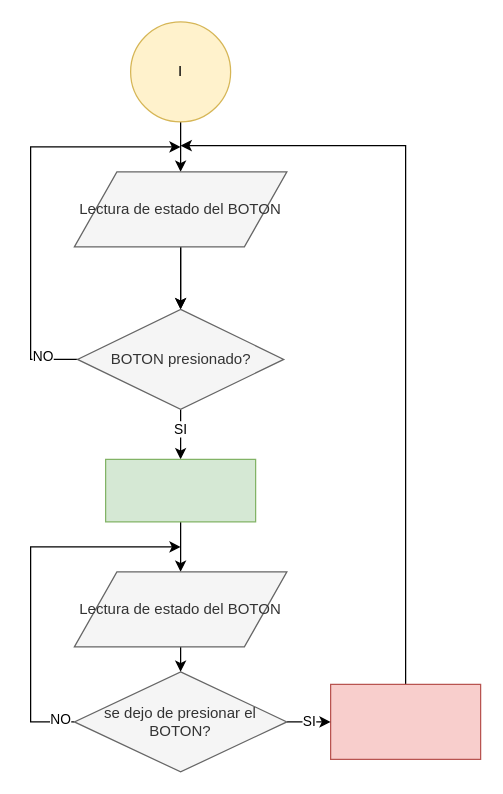
This 503x794 diagram has some shape labels left out. The box of each missing label's shape, as (x1, y1, x2, y2) in pixels:
Apagar LED: (329, 683, 481, 759)
Encender LED: (104, 458, 256, 522)
